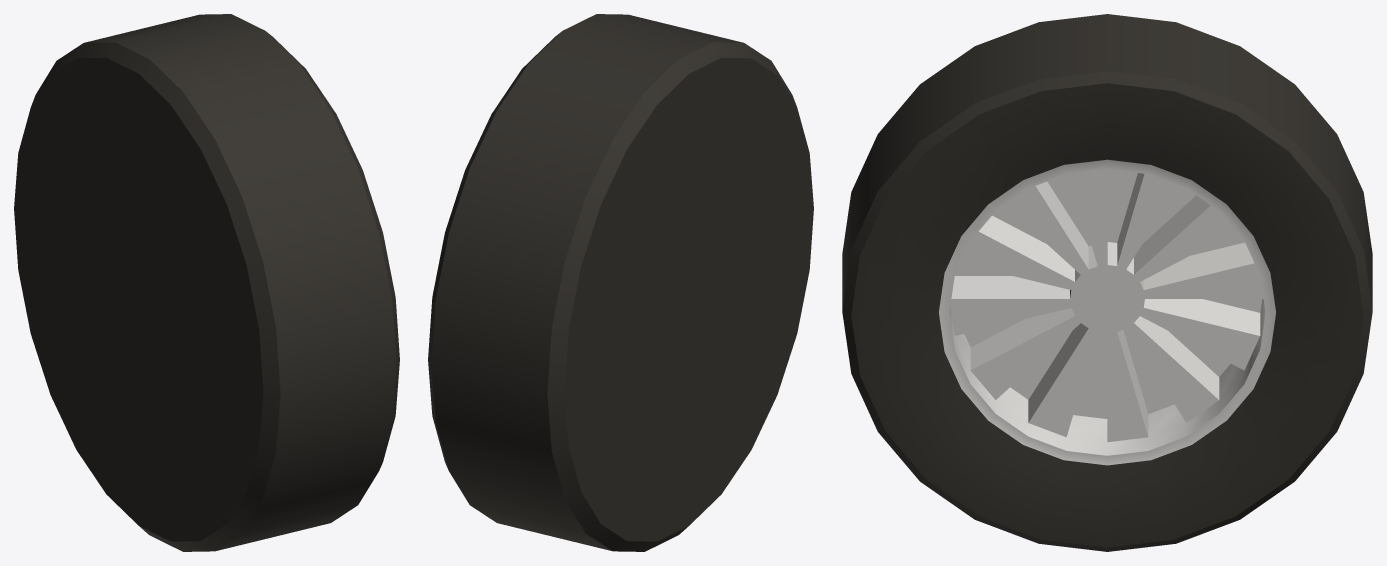
File: wheel.fbx
The picture shows the model from 3 angles, left to right: view 1: azimuth 30°, elevation 25°; view 2: azimuth 150°, elevation 25°; view 3: azimuth 270°, elevation 25°; orthographic projection.
Visible parts, largest first — view 1: Wheel; view 2: Wheel; view 3: Wheel.
Boxes of the visible parts, <box> form: Wheel: <box>14,14,399,551</box>; Wheel: <box>428,14,813,551</box>; Wheel: <box>842,14,1372,551</box>.
Size of the model in its own units: 19.88 by 67.28 by 67.28.
